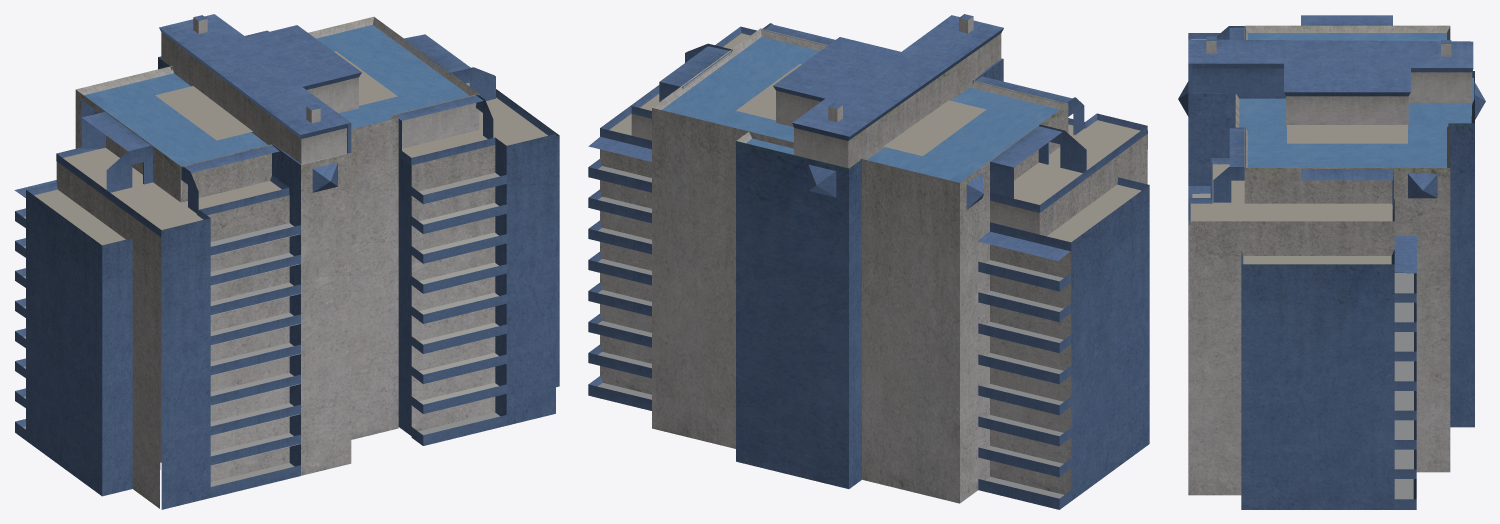
Rendered from ORB_3_S9_Detail_3.fbx.
3 renders of one model, left to right at view 1: azimuth 30°, elevation 25°; view 2: azimuth 150°, elevation 25°; view 3: azimuth 270°, elevation 25°, orthographic. The views are drawn at different scales.
Parts seen in each view (by area): view 1: ORB_3_S9_Detail_3; view 2: ORB_3_S9_Detail_3; view 3: ORB_3_S9_Detail_3.
Boxes of the visible parts, x1,y1,x2,y2 form: ORB_3_S9_Detail_3: (14,14,559,509); ORB_3_S9_Detail_3: (588,14,1149,509); ORB_3_S9_Detail_3: (1178,15,1485,509).
Size of the model in its own units: 4235 by 3143 by 2531.
